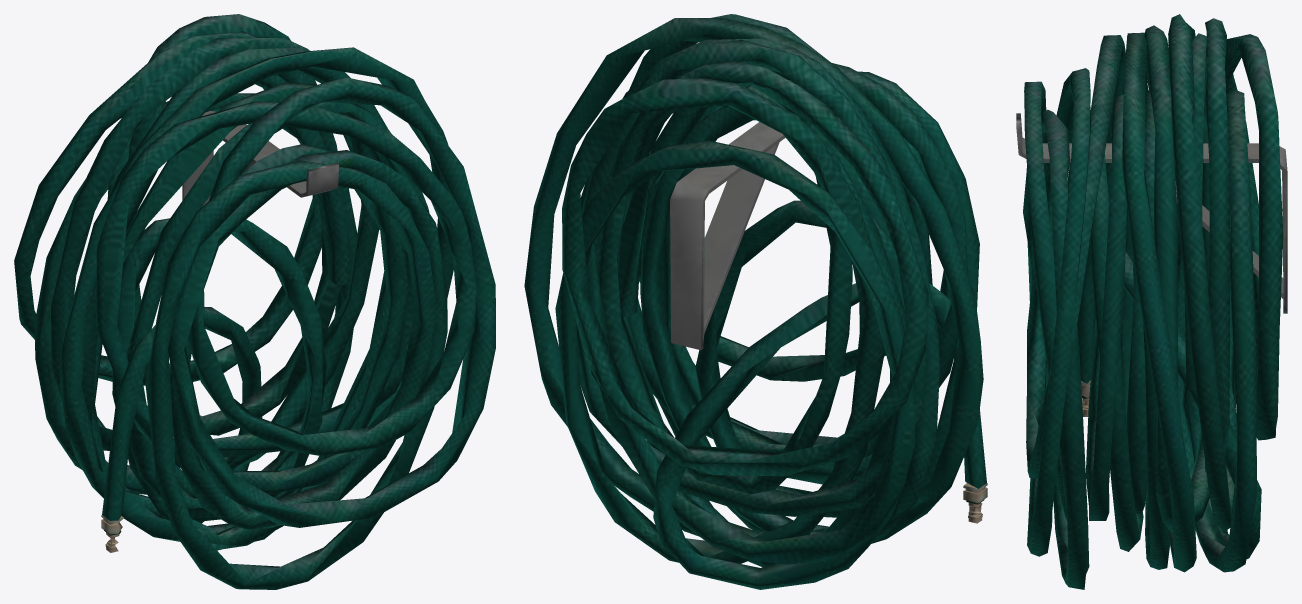
The model's file is garden_hose_wall_mounted_01.glb.
The picture shows the model from 3 angles, left to right: view 1: azimuth 30°, elevation 25°; view 2: azimuth 150°, elevation 25°; view 3: azimuth 270°, elevation 25°; orthographic projection. The views are drawn at different scales.
Parts seen in each view (by area): view 1: garden_hose, garden_hose_wall_bracket; view 2: garden_hose, garden_hose_wall_bracket; view 3: garden_hose, garden_hose_wall_bracket.
Part boxes in pixels (<box>): garden_hose: <box>14,14,495,589</box>; garden_hose_wall_bracket: <box>182,111,338,206</box>; garden_hose: <box>524,14,987,589</box>; garden_hose_wall_bracket: <box>670,122,785,350</box>; garden_hose: <box>1023,14,1283,589</box>; garden_hose_wall_bracket: <box>1016,113,1287,313</box>.
Size of the model in its own units: 0.4621 by 0.5511 by 0.2503.
1 material, 1 textured.
